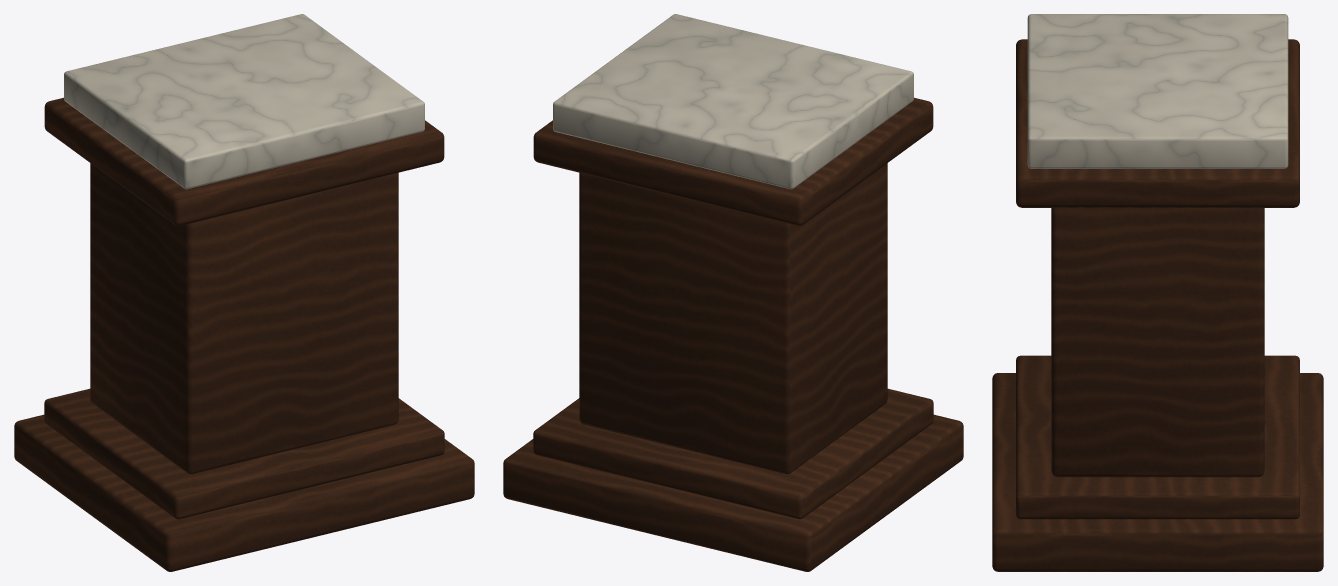
The model's file is bell-pedestal.glb.
3 views of the same model, side by side, from view 1: azimuth 30°, elevation 25°; view 2: azimuth 150°, elevation 25°; view 3: azimuth 270°, elevation 25° (orthographic). The views are drawn at different scales.
Parts seen in each view (by area): view 1: shaft, marble, foot, step, cap; view 2: shaft, marble, foot, step, cap; view 3: shaft, marble, foot, step, cap.
Part boxes in pixels (x1=…): shaft: x1=90, y1=163, x2=398, y2=474; marble: x1=64, y1=14, x2=424, y2=189; foot: x1=14, y1=414, x2=474, y2=571; step: x1=44, y1=388, x2=444, y2=519; cap: x1=44, y1=97, x2=444, y2=225; shaft: x1=579, y1=163, x2=887, y2=474; marble: x1=553, y1=14, x2=913, y2=189; foot: x1=503, y1=414, x2=963, y2=571; step: x1=533, y1=388, x2=933, y2=519; cap: x1=533, y1=97, x2=933, y2=225; shaft: x1=1051, y1=208, x2=1264, y2=477; marble: x1=1027, y1=14, x2=1288, y2=168; foot: x1=992, y1=373, x2=1323, y2=571; step: x1=1016, y1=355, x2=1299, y2=519; cap: x1=1016, y1=39, x2=1299, y2=207.
Bounding box in the file's own units: 0.64 × 0.78 × 0.56.
Materials: 2 (2 with a texture image).
